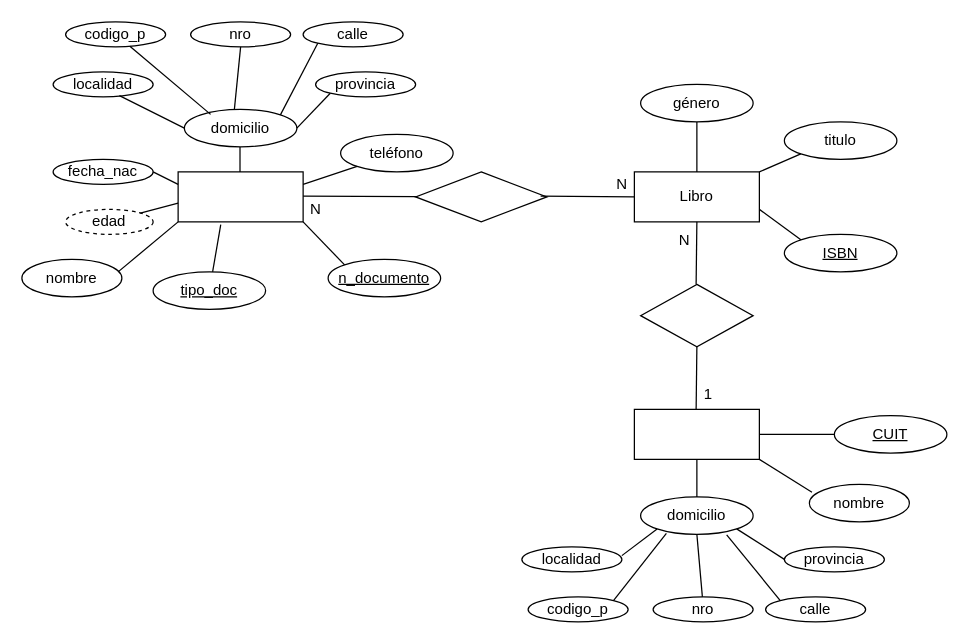
Some shapes in this 969 by 644 pixel diagram are drawn without their labels. The centre of each missing label's shape, as x and y in pixels:
"Cliente" belongs at pixel 240 196.
"Es provisto" belongs at pixel 696 315.
"Lee" belongs at pixel 480 196.
"Proovedor" belongs at pixel 696 433.
